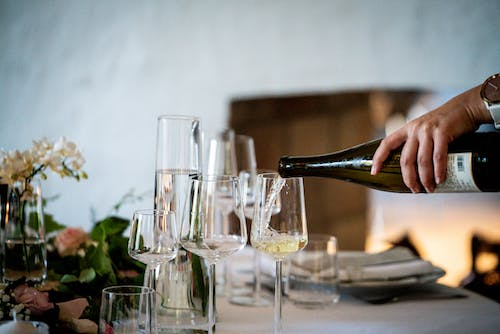alcohol: (277, 131, 500, 194), (249, 172, 309, 334)
